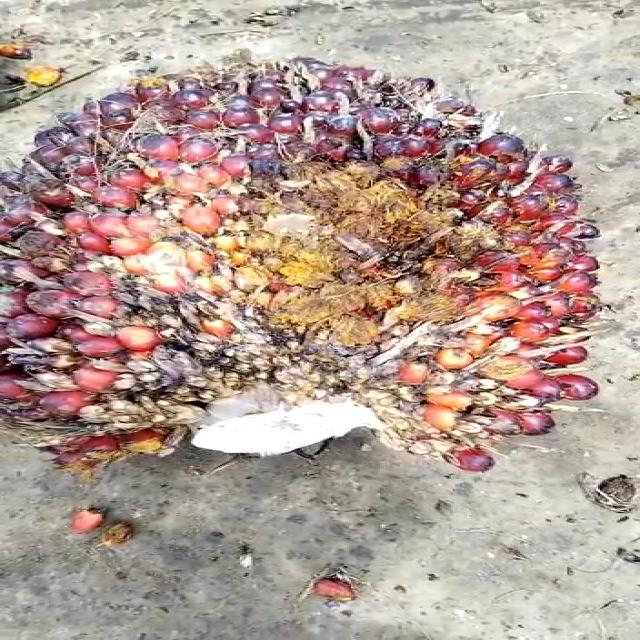palm oil: (0, 46, 640, 478)
